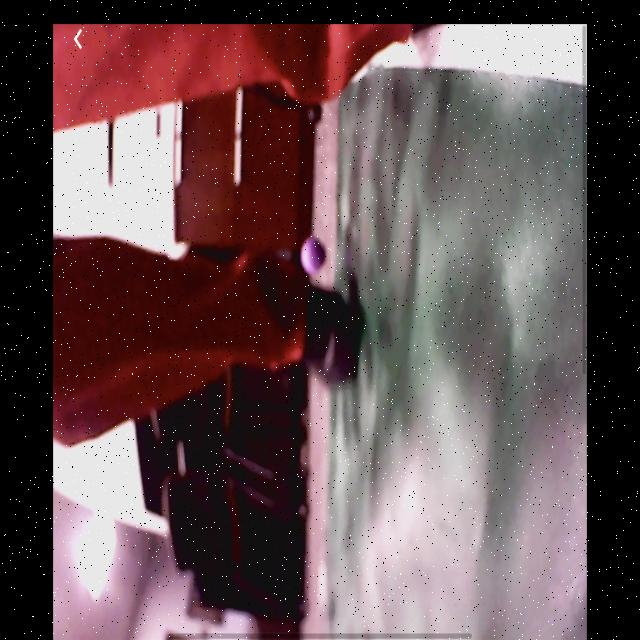ball: (301, 240, 328, 274)
